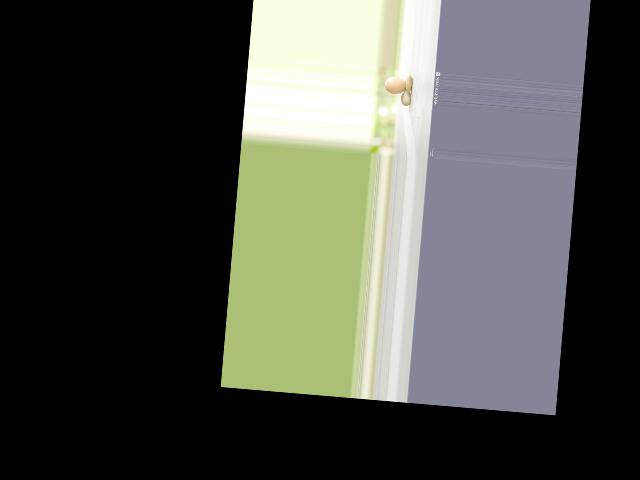egg: (384, 76, 406, 95)
